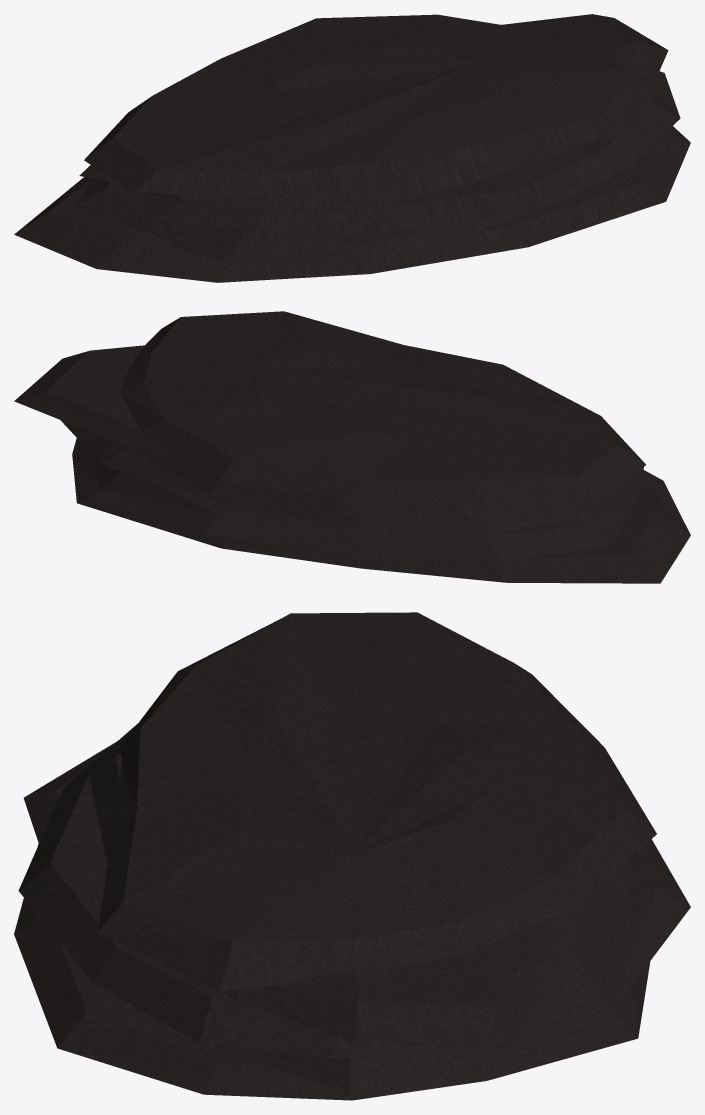
File: slate.glb
3 renders of one model, top to bottom at view 1: azimuth 30°, elevation 25°; view 2: azimuth 150°, elevation 25°; view 3: azimuth 270°, elevation 25°, orthographic. The views are drawn at different scales.
Visible parts, largest first — view 1: slate; view 2: slate; view 3: slate.
Boxes of the visible parts, <box> form: slate: <box>14,14,690,282</box>; slate: <box>14,311,690,583</box>; slate: <box>14,612,690,1100</box>.
Size of the model in its own units: 1.86 by 0.2756 by 1.16.
1 material, 1 textured.
